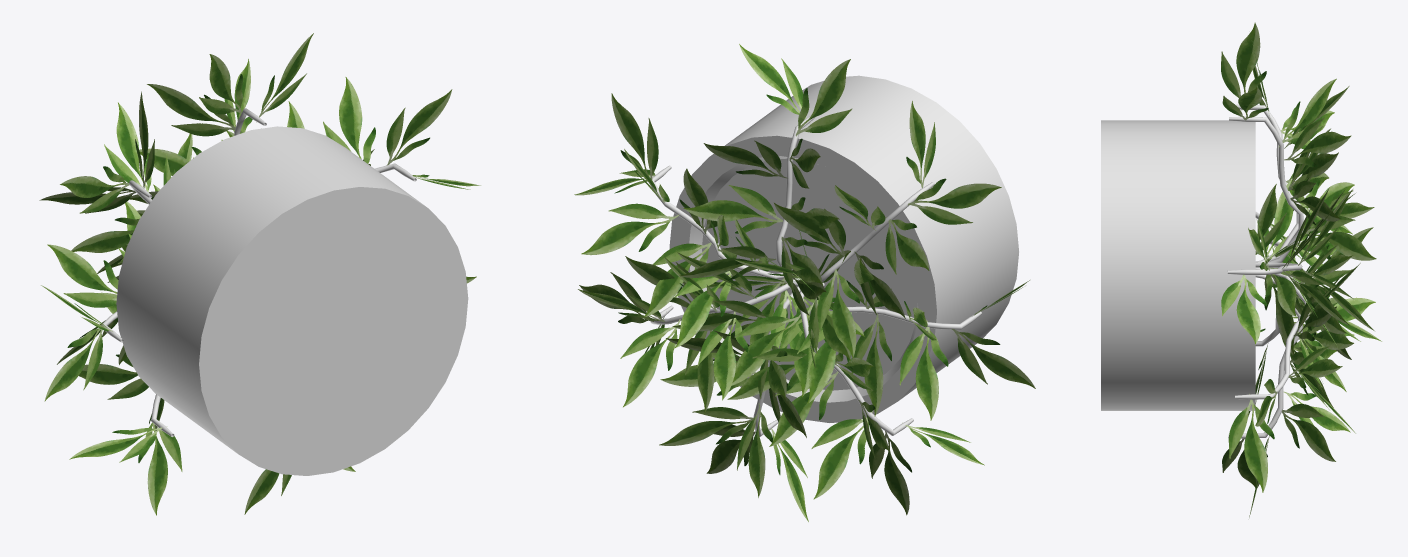
File: Maceta.fbx
The picture shows the model from 3 angles, left to right: view 1: azimuth 30°, elevation 25°; view 2: azimuth 150°, elevation 25°; view 3: azimuth 270°, elevation 25°; orthographic projection. The views are drawn at different scales.
Parts seen in each view (by area): view 1: Maceta; view 2: Maceta; view 3: Maceta.
Part boxes in pixels (x1,y1,x2,y2): Maceta: (39, 33, 480, 515); Maceta: (574, 44, 1035, 521); Maceta: (1101, 22, 1381, 517).
Bounding box in the file's own units: 79.96 × 80.39 × 44.49.
